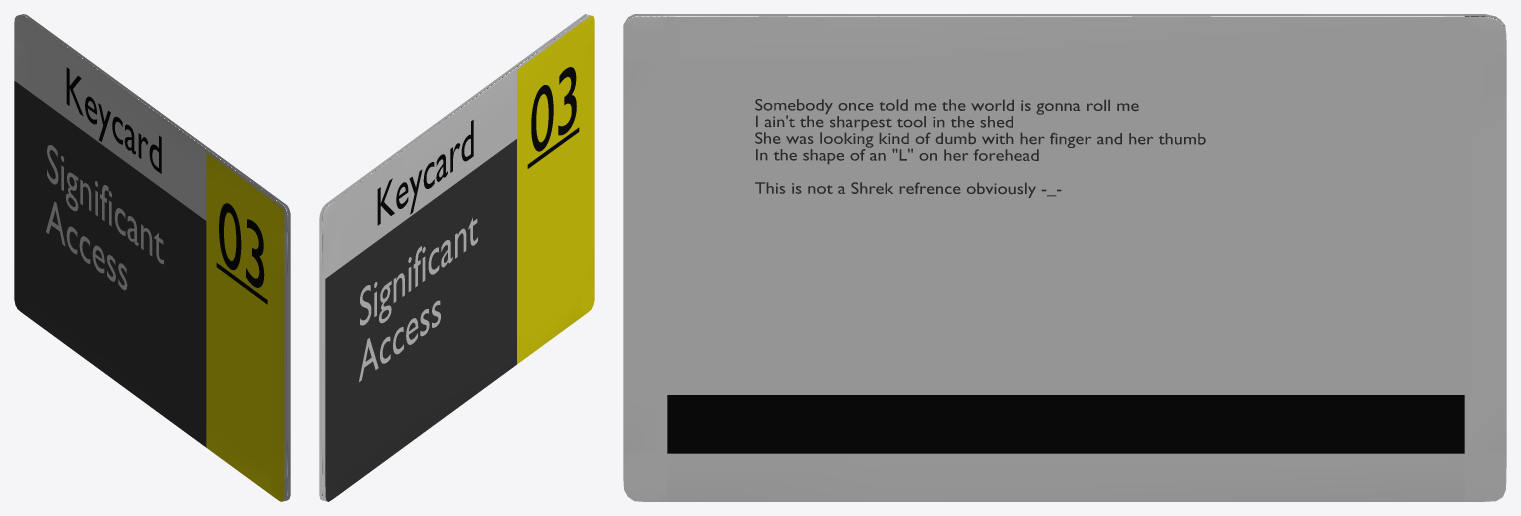
The model's file is Level3.fbx.
The picture shows the model from 3 angles, left to right: view 1: azimuth 30°, elevation 25°; view 2: azimuth 150°, elevation 25°; view 3: azimuth 270°, elevation 25°; orthographic projection. The views are drawn at different scales.
Visible parts, largest first — view 1: Cube, Text.003, Text.002, Text; view 2: Cube, Text.003, Text.002, Text; view 3: Cube, Text.005.
Part boxes in pixels (box(x1,y1,x2,y2)): Cube: box(14, 14, 290, 501); Text.003: box(46, 145, 163, 290); Text.002: box(66, 67, 161, 173); Text: box(219, 203, 264, 287); Cube: box(319, 14, 594, 501); Text.003: box(359, 217, 477, 381); Text.002: box(377, 120, 473, 225); Text: box(531, 67, 576, 151); Cube: box(623, 14, 1506, 501); Text.005: box(755, 99, 1205, 197).
Size of the model in its own units: 8.56 by 268 by 445.
